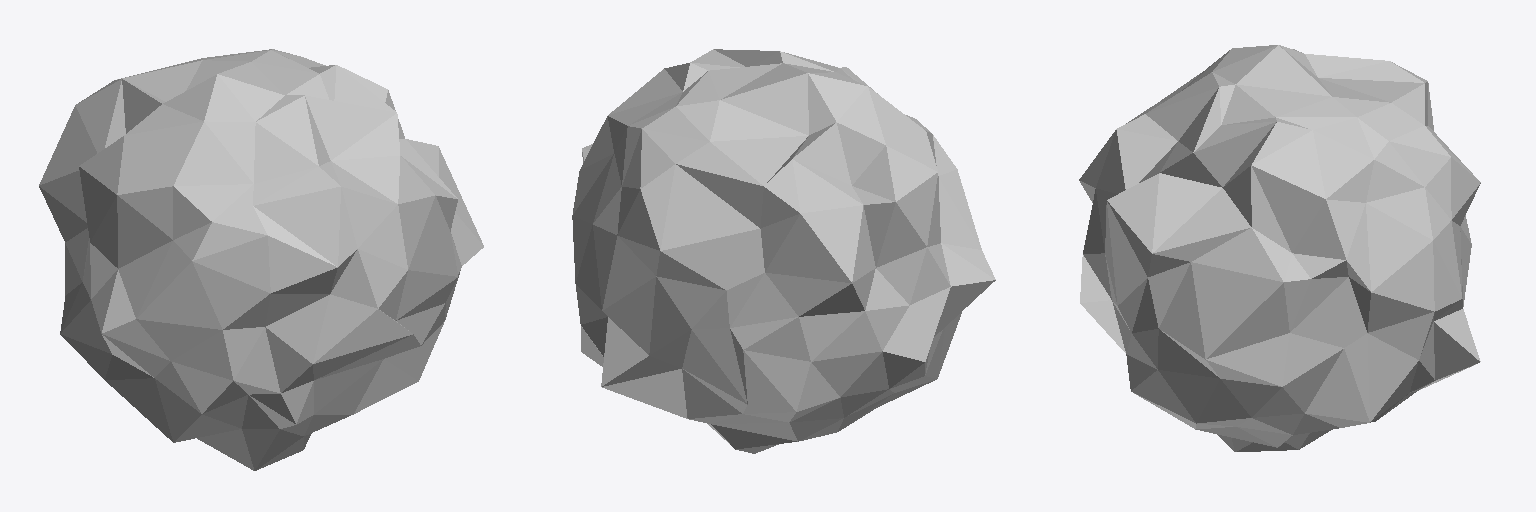
The model's file is fire_000036.obj.
3 views of the same model, side by side, from view 1: azimuth 30°, elevation 25°; view 2: azimuth 150°, elevation 25°; view 3: azimuth 270°, elevation 25° (orthographic).
Parts seen in each view (by area): view 1: Icosphere; view 2: Icosphere; view 3: Icosphere.
Part boxes in pixels (bbox=[...]): Icosphere: bbox=[39, 49, 483, 470]; Icosphere: bbox=[572, 49, 995, 453]; Icosphere: bbox=[1079, 45, 1480, 451].
Size of the model in its own units: 1.11 by 1.06 by 1.01.